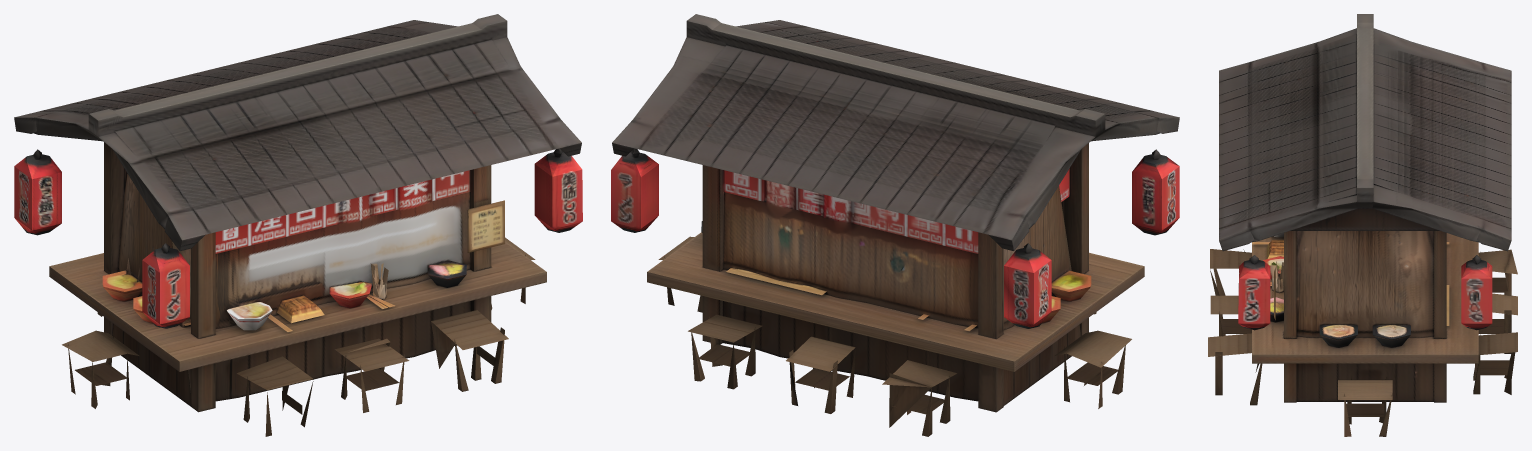
File: comida.obj
3 views of the same model, side by side, from view 1: azimuth 30°, elevation 25°; view 2: azimuth 150°, elevation 25°; view 3: azimuth 270°, elevation 25° (orthographic). The views are drawn at different scales.
Parts seen in each view (by area): view 1: model; view 2: model; view 3: model.
Part boxes in pixels (left/top/right/bottom): model: left=14, top=14, right=582, bottom=436; model: left=611, top=14, right=1179, bottom=436; model: left=1208, top=14, right=1517, bottom=436.
Bounding box in the file's own units: 1.9 × 1.2 × 1.33.
1 material, 1 textured.
